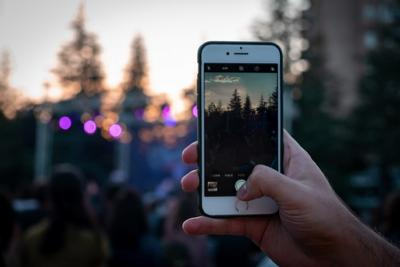Mobile Phone: (195, 39, 284, 218)
